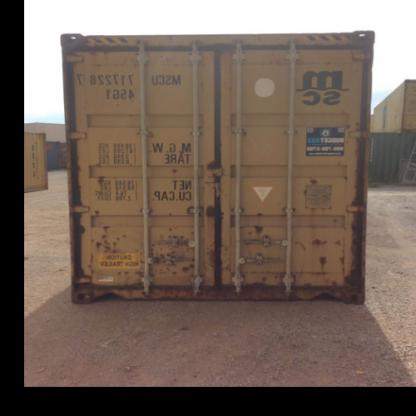Damage: (147, 224, 192, 274), (88, 221, 126, 256), (337, 252, 363, 289), (310, 253, 335, 281), (201, 240, 219, 274), (259, 268, 287, 289), (110, 266, 146, 280), (226, 262, 250, 283), (200, 199, 221, 220), (290, 239, 304, 270), (334, 156, 352, 180), (300, 177, 318, 195), (341, 111, 357, 131), (303, 203, 332, 213), (138, 155, 155, 171), (245, 222, 265, 235), (310, 231, 326, 247), (332, 210, 348, 225), (95, 170, 108, 186), (169, 160, 182, 176), (88, 203, 102, 214), (332, 233, 342, 246), (254, 207, 262, 218)
